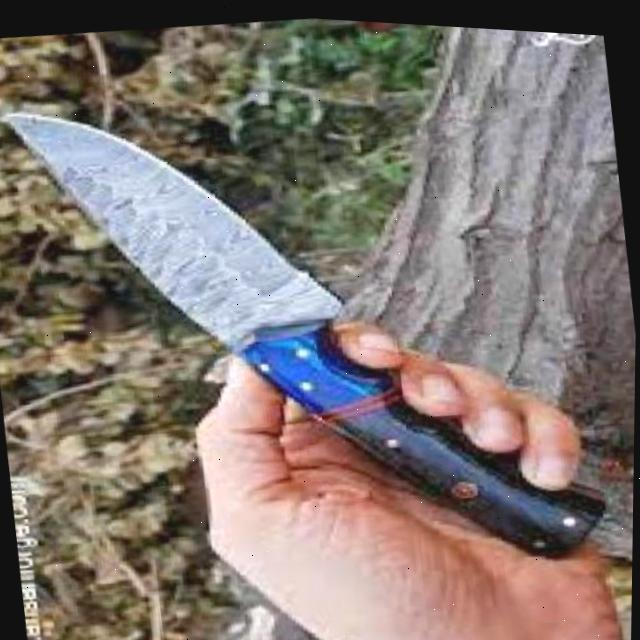knife: (4, 43, 619, 613)
